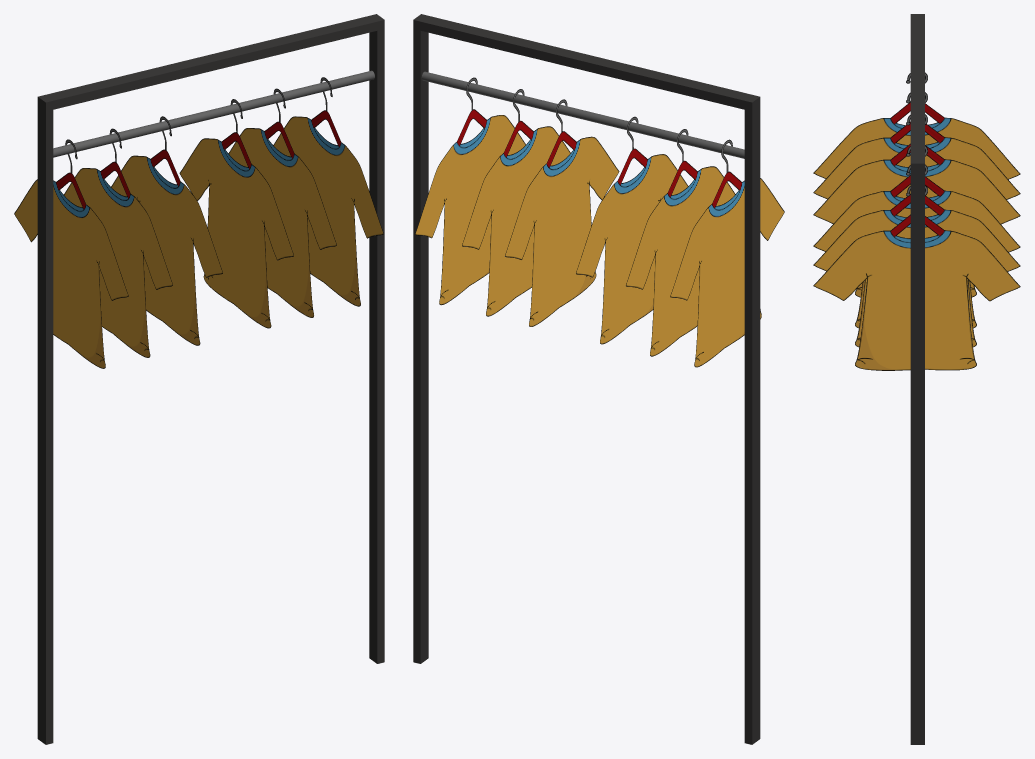
File: geo_clothesRackWithClothes_01.fbx
3 views of the same model, side by side, from view 1: azimuth 30°, elevation 25°; view 2: azimuth 150°, elevation 25°; view 3: azimuth 270°, elevation 25° (orthographic). The views are drawn at different scales.
Visible parts, largest first — view 1: geo_clothesRack_01, geo_shirt_07, geo_shirt_04, geo_shirt_06, geo_shirt_09, geo_shirt_05, geo_shirt_08, geo_clothesRackBar_01; view 2: geo_clothesRack_01, geo_shirt_07, geo_shirt_04, geo_shirt_06, geo_shirt_09, geo_shirt_05, geo_shirt_08, geo_clothesRackBar_01; view 3: geo_shirt_09, geo_clothesRack_01, geo_shirt_06, geo_shirt_08, geo_shirt_05, geo_shirt_07, geo_shirt_04.
Boxes of the visible parts, x1,y1,x2,y2 form: geo_clothesRack_01: (37,14,384,744); geo_shirt_07: (179,99,293,328); geo_shirt_04: (14,139,128,368); geo_shirt_06: (111,116,222,345); geo_shirt_09: (273,77,383,306); geo_shirt_05: (64,128,172,357); geo_shirt_08: (228,88,336,317); geo_clothesRackBar_01: (53,70,374,157); geo_clothesRack_01: (413,14,760,744); geo_shirt_07: (504,99,619,326); geo_shirt_04: (670,139,784,367); geo_shirt_06: (575,116,688,344); geo_shirt_09: (415,77,525,305); geo_shirt_05: (625,129,735,356); geo_shirt_08: (462,89,570,316); geo_clothesRackBar_01: (421,71,744,158); geo_shirt_09: (813,185,1020,370); geo_clothesRack_01: (910,14,924,744); geo_shirt_06: (813,114,1020,297); geo_shirt_08: (813,164,1020,347); geo_shirt_05: (813,92,1020,199); geo_shirt_07: (813,145,1020,328); geo_shirt_04: (813,72,1020,179).
Bounding box in the file's own units: 61.16 × 111 × 35.79.
3 materials, 1 textured.
